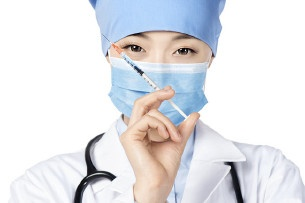Mask: (110, 27, 215, 132)
